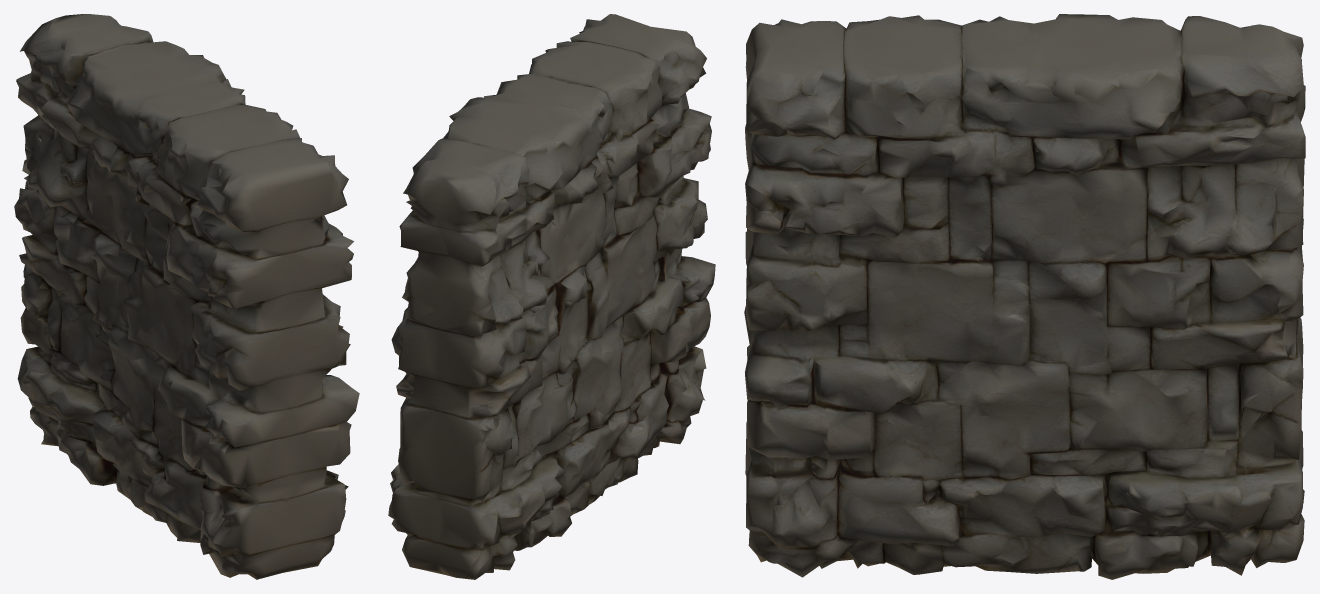
Rendered from v3_flatwall.glb.
The picture shows the model from 3 angles, left to right: view 1: azimuth 30°, elevation 25°; view 2: azimuth 150°, elevation 25°; view 3: azimuth 270°, elevation 25°; orthographic projection. The views are drawn at different scales.
Visible parts, largest first — view 1: tripo_node_ef557bd8-5789-415a-857a-09540c5015fe; view 2: tripo_node_ef557bd8-5789-415a-857a-09540c5015fe; view 3: tripo_node_ef557bd8-5789-415a-857a-09540c5015fe.
Boxes of the visible parts, <box> form: tripo_node_ef557bd8-5789-415a-857a-09540c5015fe: <box>14,14,359,579</box>; tripo_node_ef557bd8-5789-415a-857a-09540c5015fe: <box>388,14,715,579</box>; tripo_node_ef557bd8-5789-415a-857a-09540c5015fe: <box>744,14,1305,579</box>.
Size of the model in its own units: 0.3601 by 0.9937 by 1.
1 material, 1 textured.
